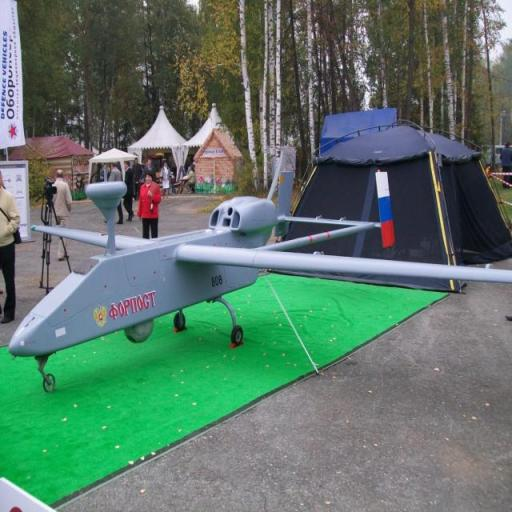uav: (13, 143, 512, 391)
